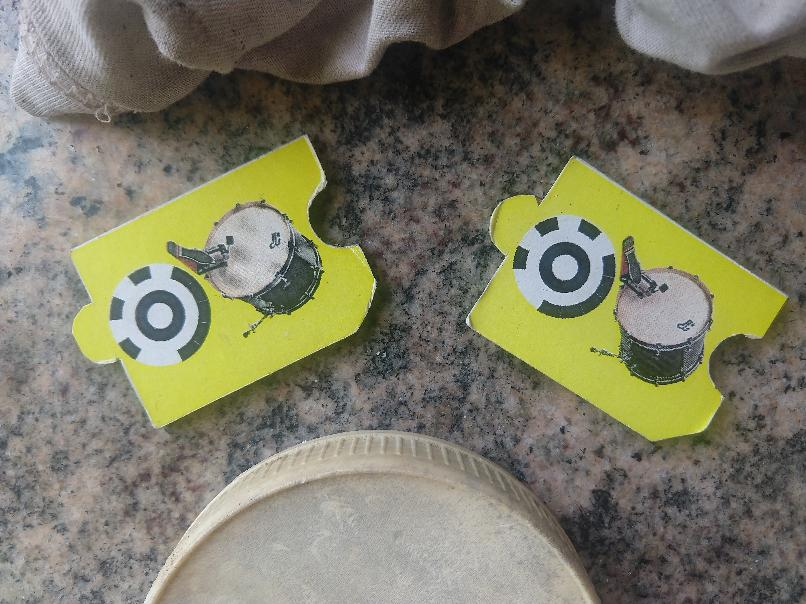bumbo: (465, 155, 790, 445), (66, 133, 377, 431)
